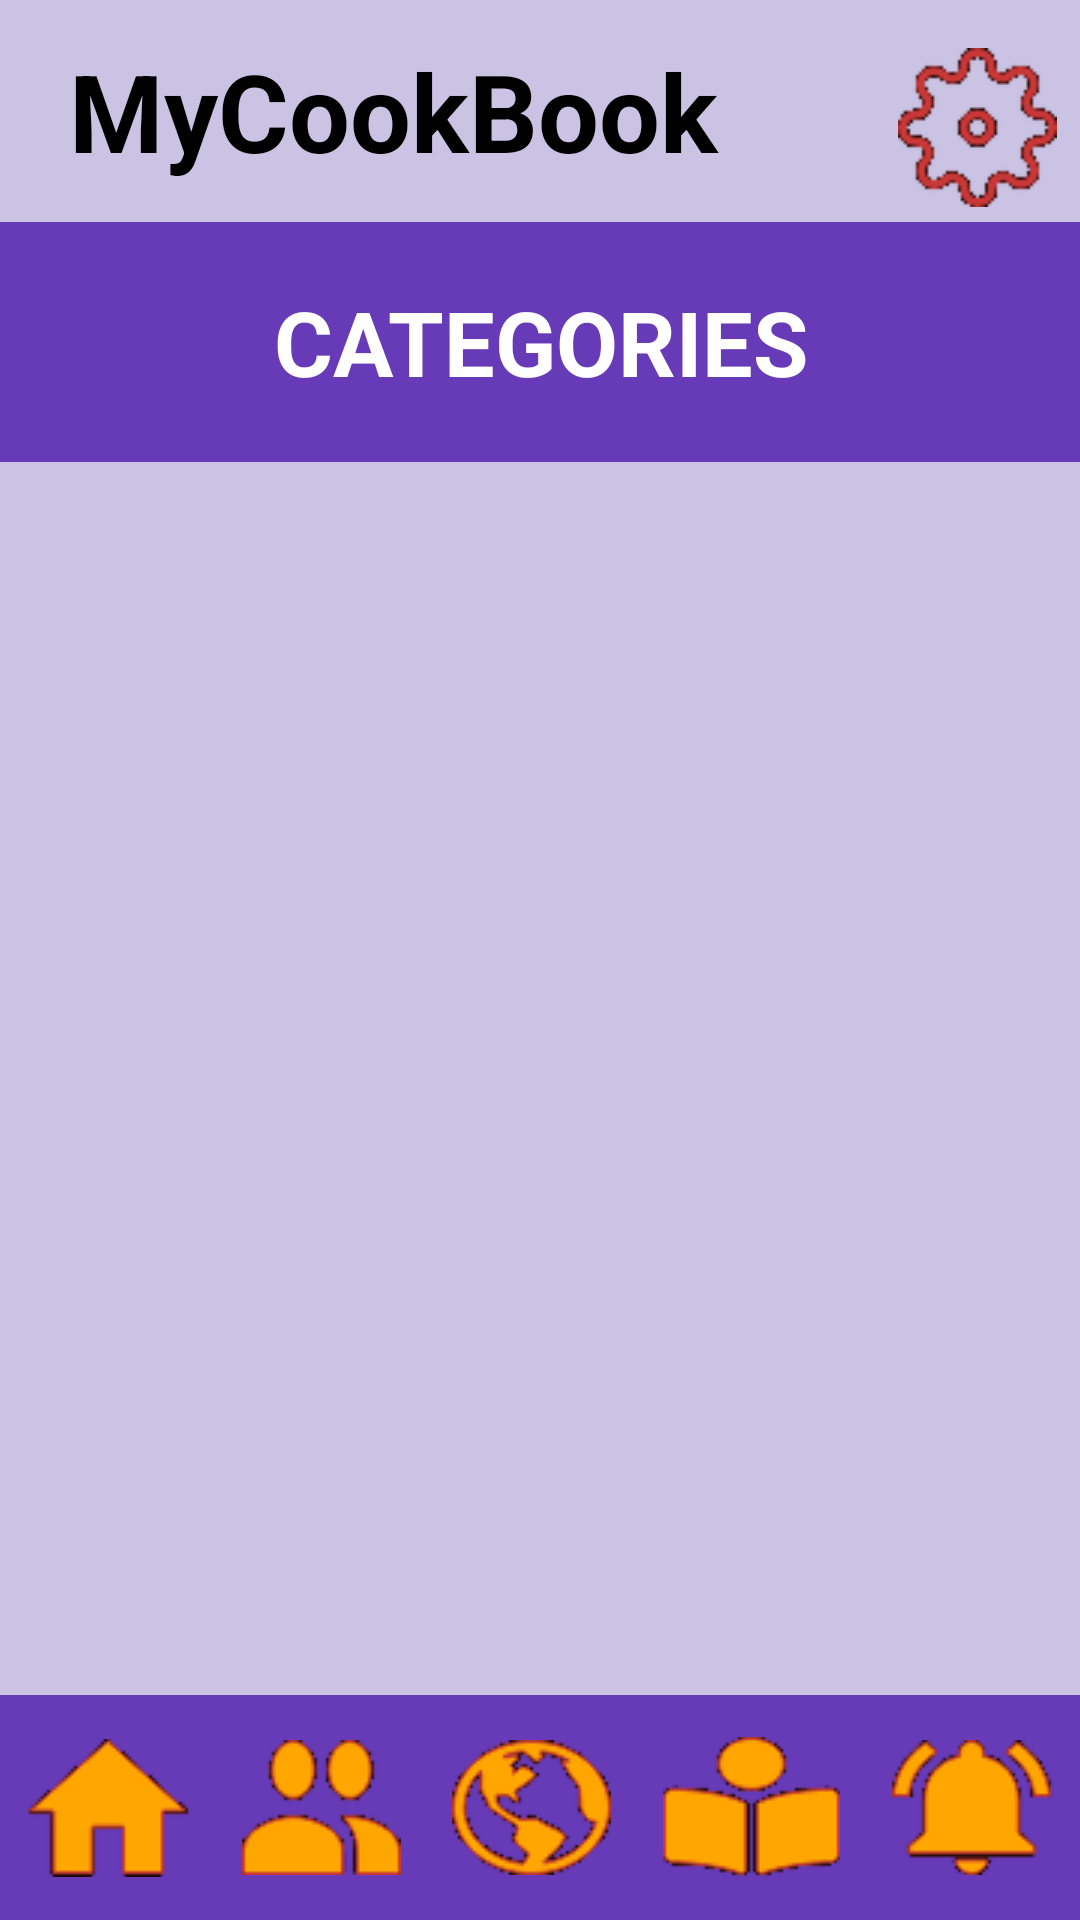

Icon click points for this 1080px×1920px phone screenshot, format [x,y]:
cookbookicon: [751,1806]
exploreicon: [531,1807]
homeorange: [108,1808]
notification: [972,1807]
settings: [977,127]
socialicon: [321,1807]
